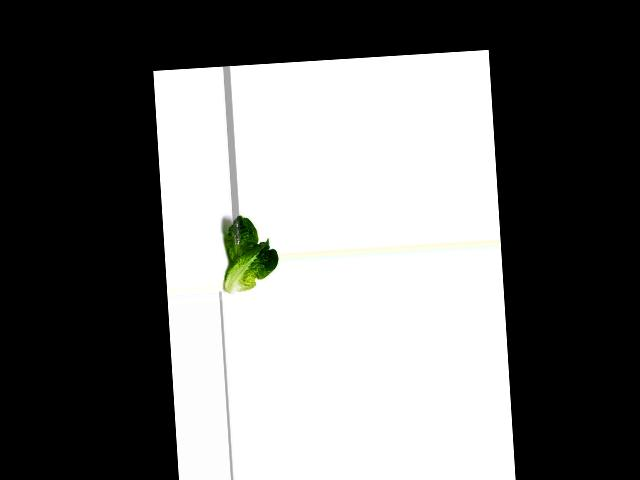lettuce: (222, 211, 280, 295)
